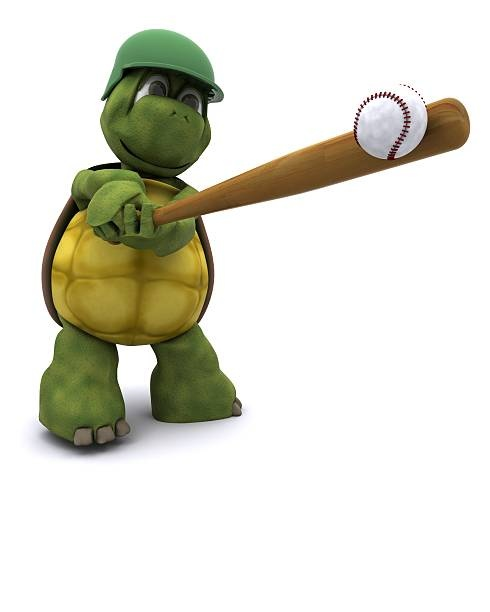bita: (155, 102, 465, 226)
